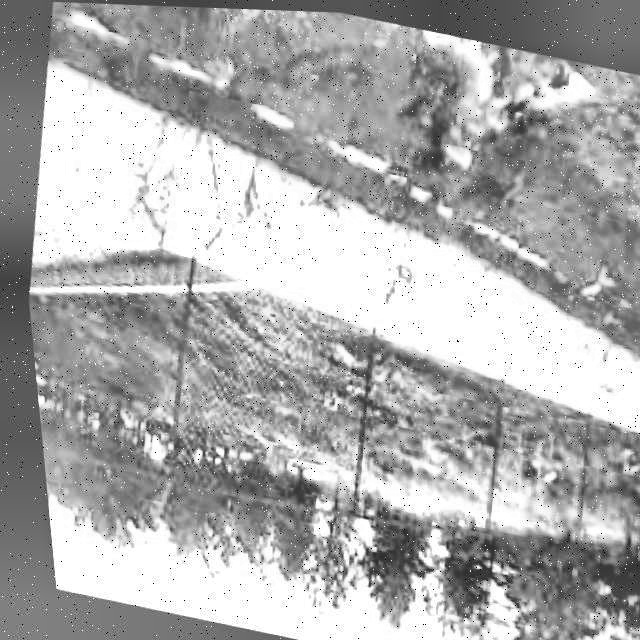Fire: (419, 29, 597, 189)
